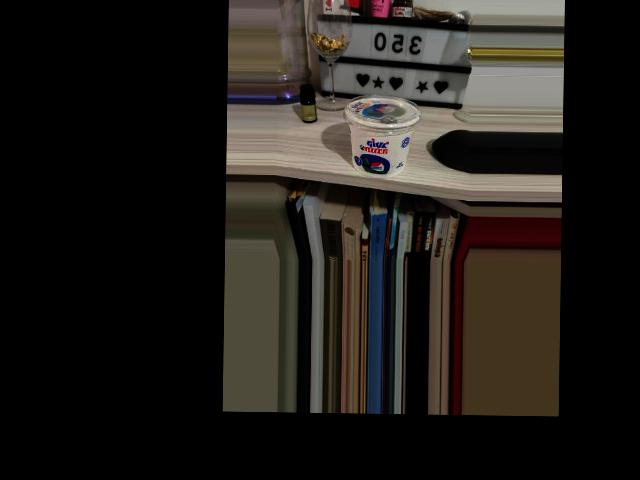cotage: (349, 91, 414, 180)
